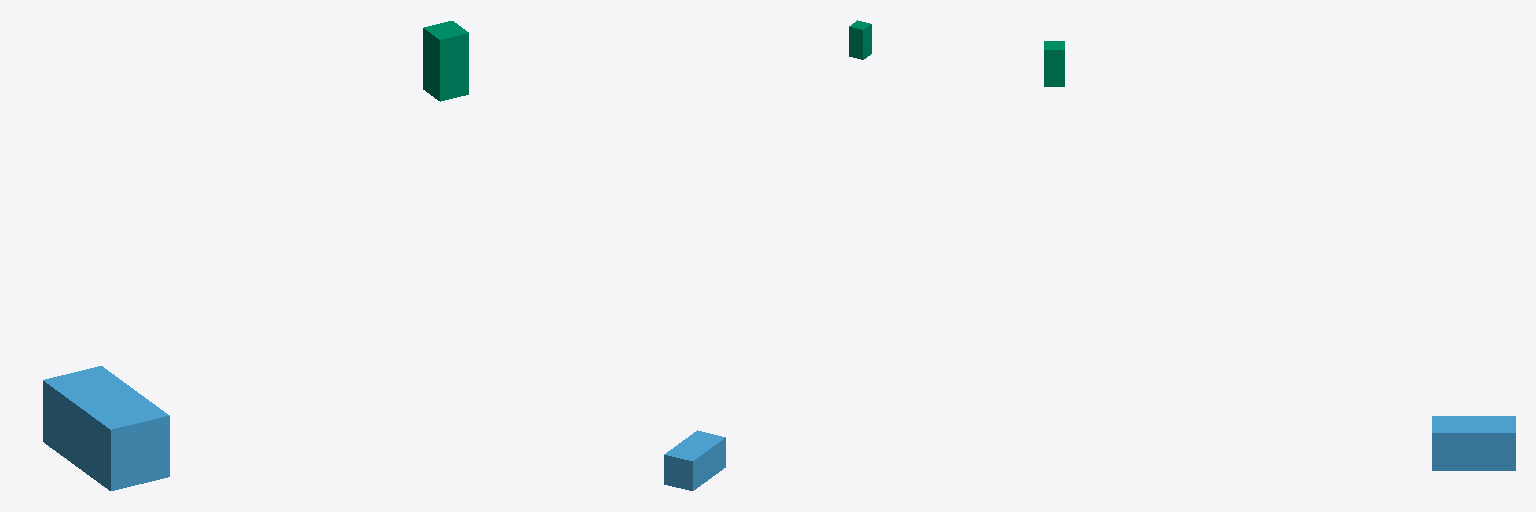
URDF robot description (test_minimal):
<?xml version="1.0" ?>
<!-- =================================================================================== -->
<!-- |    This document was autogenerated by xacro from nao_robot_v4.xacro             | -->
<!-- |    EDITING THIS FILE BY HAND IS NOT RECOMMENDED                                 | -->
<!-- =================================================================================== -->
<robot name="test_minimal">
  <!-- Macro for insert a link visualization -->
  <!-- Macro for insert a link collision -->
  <!-- dummy first link, directly connects with torso -->
  <link name="base_link">
    <visual>
      <origin xyz="0 0 0" rpy="0 0 0"/>
      <geometry>
          <mesh filename="[local-path]/blender-urdf/data/mesh/atrv.stl"/>
      </geometry>
    </visual>
  </link>
  <link name="link1">
    <visual>
      <origin xyz="0 1 0" rpy="0 0 0"/>
      <geometry>
          <box size="0.1 0.2 0.1"/>
      </geometry>
    </visual>
  
    <collision>
      <geometry name="Torso_visual_geom">
        <cylinder radius="0.1" length="1"/>
      </geometry>
    </collision>
  </link>
  <joint name="joint1" type="fixed">
    <child link="link1"/>
    <parent link="base_link"/>
    <origin xyz="2 0 0" rpy="0 0 0" />
  </joint>
    <link name="link2">
    <visual>
      <origin xyz="0 0 0" rpy="0 0 0"/>
      <geometry>
            <box size="0.05 0.05 0.1"/>
        </geometry>
    </visual>
  
    <collision>
      <geometry name="Torso_visual_geom">
        <sphere radius="0.1"/>
      </geometry>
    </collision>
  </link>
  <joint name="joint2" type="fixed">
    <child link="link2"/>
    <parent link="link1"/>
    <origin xyz="0 0 1" rpy="0 0 0" />
  </joint>
  
</robot>

--- Render facts (derived) ---
The picture shows the robot from 3 angles, left to right: view 1: azimuth 30°, elevation 25°; view 2: azimuth 150°, elevation 25°; view 3: azimuth 270°, elevation 25°; orthographic projection.
Model test_minimal with 3 links and 2 joints (2 fixed), rooted at base_link, posed all joints at 0.
Links seen in each view (by area): view 1: link1, link2; view 2: link1, link2; view 3: link1, link2.
Link boxes in pixels (x1,y1,x2,y2): link1: (43, 366, 169, 490); link2: (423, 21, 468, 101); link1: (664, 430, 725, 490); link2: (849, 20, 871, 59); link1: (1432, 416, 1515, 470); link2: (1044, 41, 1064, 86).
Size in the robot's own frame: 0.1 by 1.12 by 1.1 metres.
Geometry: only primitive shapes (box / cylinder / sphere) drawn; not drawn: 1 mesh visual (reference in a form the renderer does not follow).
